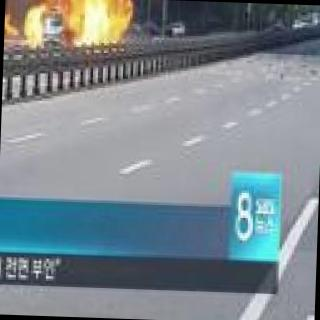fire: (44, 0, 132, 45), (24, 13, 43, 46), (4, 0, 11, 38)
